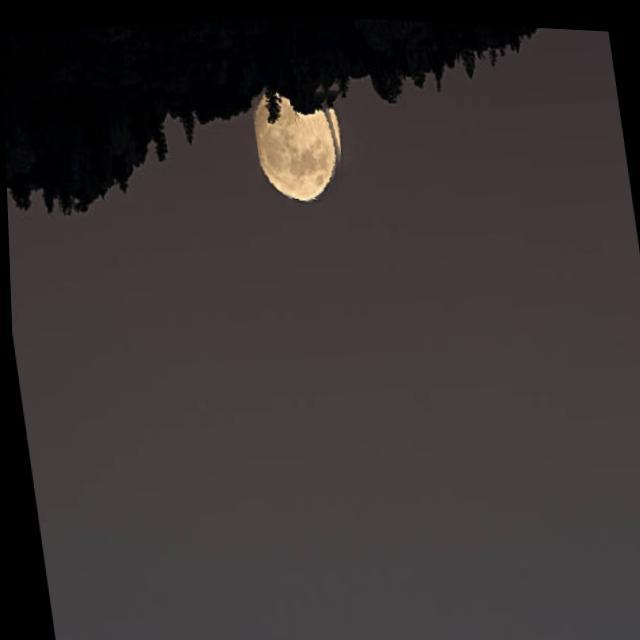moon: (247, 74, 351, 204)
